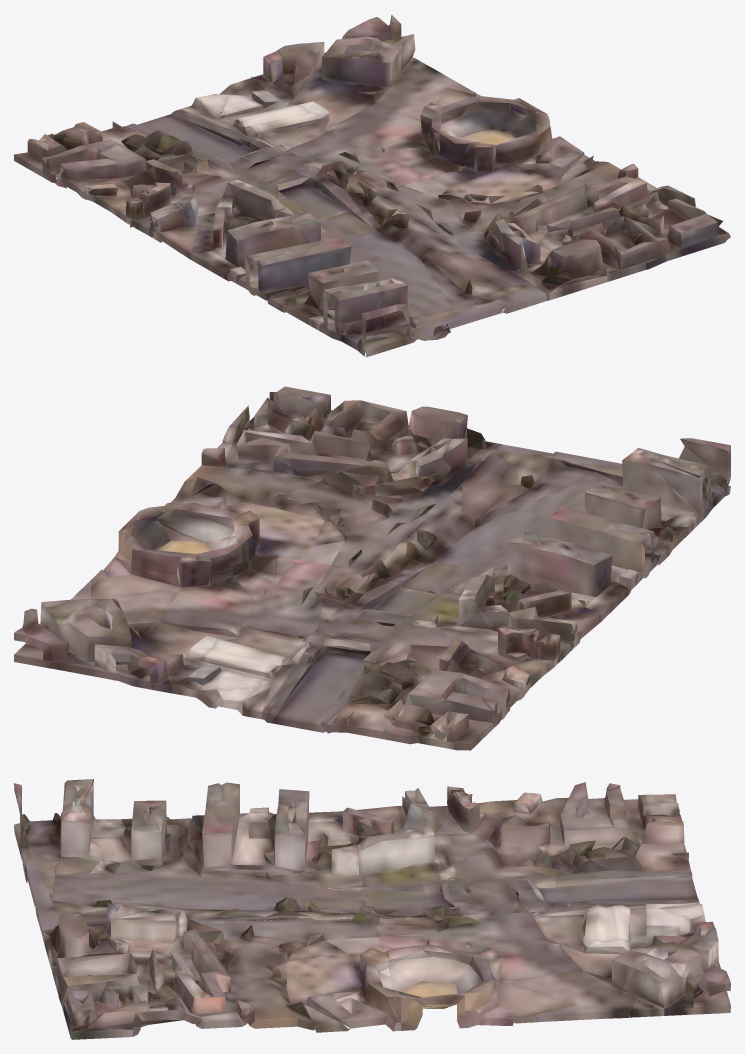
3 views of the same model, one above another, from view 1: azimuth 30°, elevation 25°; view 2: azimuth 150°, elevation 25°; view 3: azimuth 270°, elevation 25° (orthographic). The views are drawn at different scales.
Parts seen in each view (by area): view 1: Mesh_0; view 2: Mesh_0; view 3: Mesh_0.
Boxes of the visible parts, x1,y1,x2,y2 form: Mesh_0: (14, 15, 730, 357); Mesh_0: (14, 386, 730, 750); Mesh_0: (14, 779, 730, 1039).
Bounding box in the file's own units: 535 × 64.32 × 659.
2 materials, 2 textured.
